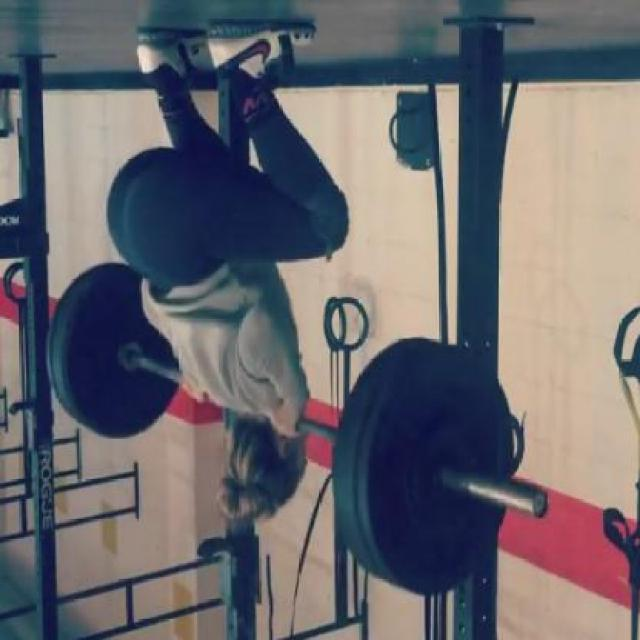Barbell: (528, 486, 550, 522)
